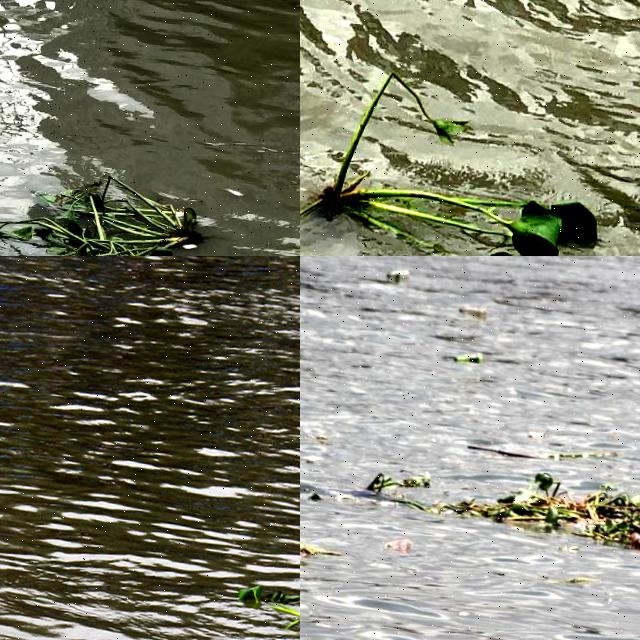water-hyacinth: (301, 58, 615, 257), (1, 164, 255, 257), (447, 465, 640, 559), (359, 460, 454, 520), (232, 559, 301, 640)
